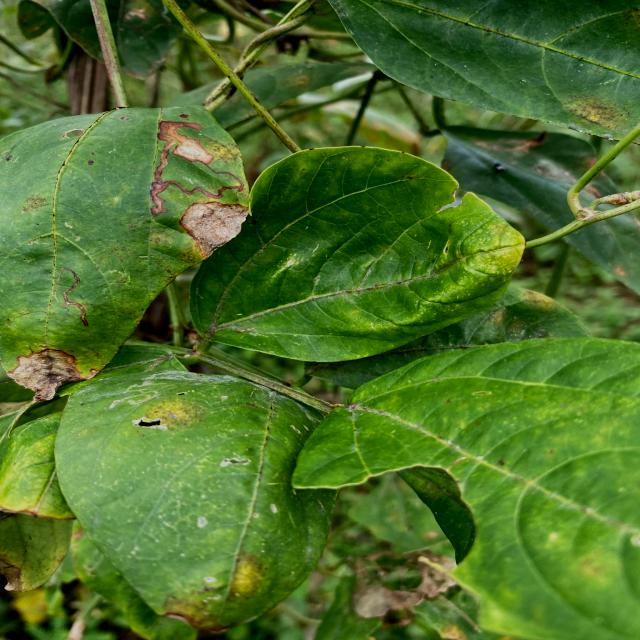sitaw-aphid-high: (74, 346, 337, 632), (233, 147, 524, 362), (329, 0, 640, 140), (0, 391, 75, 519)
sitaw-aphid-low: (293, 338, 640, 640), (0, 107, 249, 400)
sitaw-moderate: (162, 0, 300, 153)
